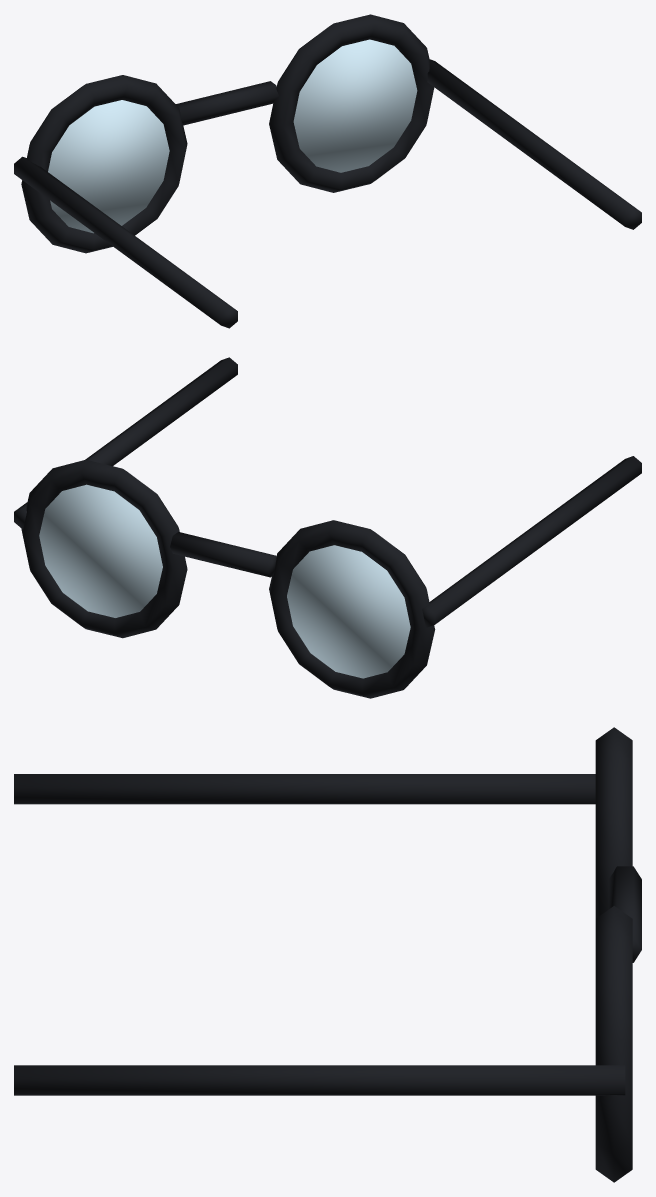
The model's file is acc_glasses.glb.
3 renders of one model, top to bottom at view 1: azimuth 30°, elevation 25°; view 2: azimuth 150°, elevation 25°; view 3: azimuth 270°, elevation 25°, orthographic. The views are drawn at different scales.
Parts seen in each view (by area): view 1: Head; view 2: Head; view 3: Head.
Part boxes in pixels (x1,y1,x2,y2): Head: (14, 14, 641, 328); Head: (14, 357, 641, 698); Head: (14, 727, 641, 1182).
Size of the model in its own units: 0.1292 by 0.0497 by 0.113.
